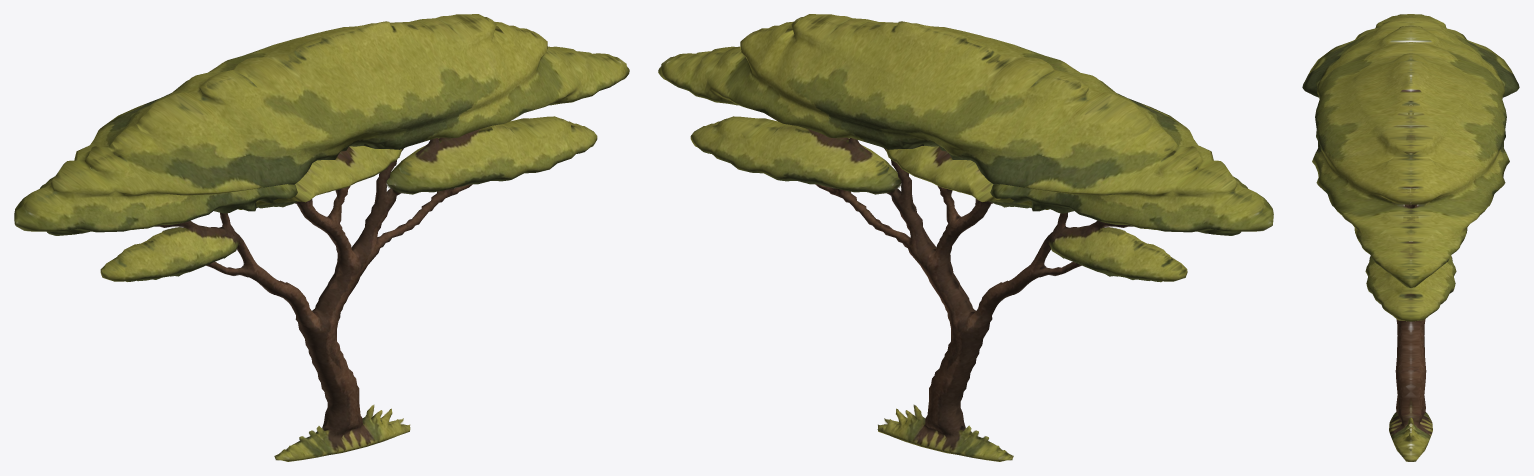
File: layers_props_12_tree_acacia_small.glb
The picture shows the model from 3 angles, left to right: view 1: azimuth 30°, elevation 25°; view 2: azimuth 150°, elevation 25°; view 3: azimuth 270°, elevation 25°; orthographic projection. The views are drawn at different scales.
Visible parts, largest first — view 1: layers_props_12_tree_acacia_small; view 2: layers_props_12_tree_acacia_small; view 3: layers_props_12_tree_acacia_small.
Boxes of the visible parts, x1,y1,x2,y2 form: layers_props_12_tree_acacia_small: (14, 14, 629, 461); layers_props_12_tree_acacia_small: (658, 14, 1273, 461); layers_props_12_tree_acacia_small: (1302, 14, 1519, 461).
Size of the model in its own units: 11.32 by 7.33 by 3.88.
Materials: 1 (1 with a texture image).
